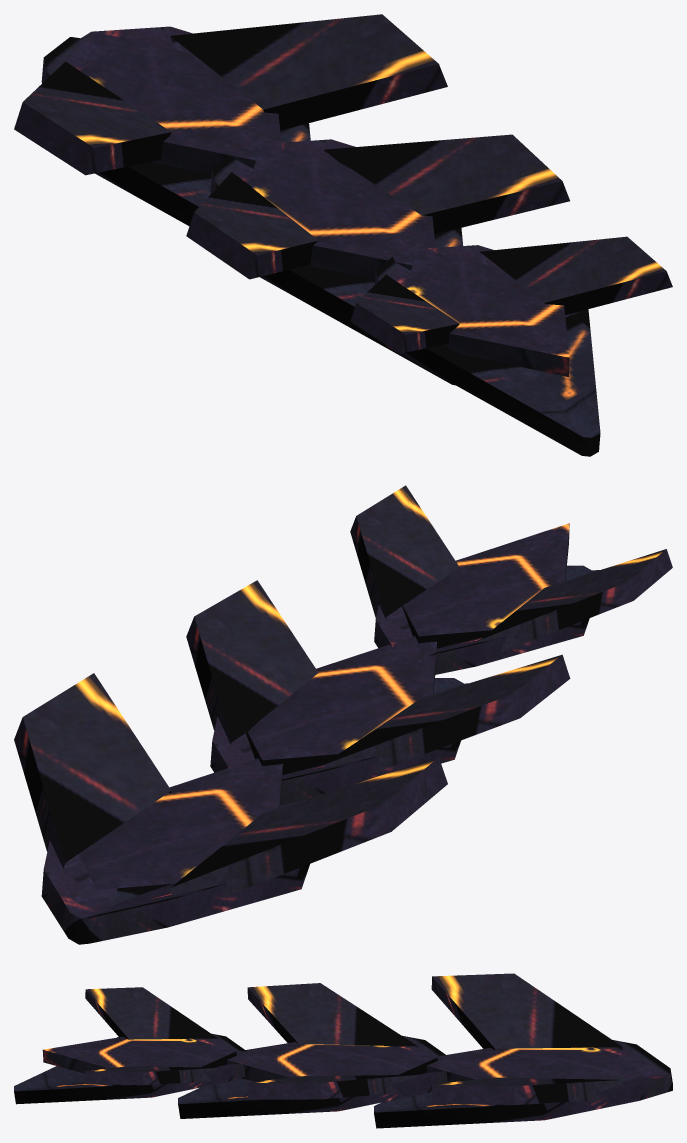
File: ship16h.fbx
3 renders of one model, top to bottom at view 1: azimuth 30°, elevation 25°; view 2: azimuth 150°, elevation 25°; view 3: azimuth 270°, elevation 25°, orthographic. The views are drawn at different scales.
Parts seen in each view (by area): view 1: PipelineFBX; view 2: PipelineFBX; view 3: PipelineFBX.
Boxes of the visible parts, bbox=[...] form: PipelineFBX: bbox=[14, 14, 672, 456]; PipelineFBX: bbox=[14, 485, 672, 944]; PipelineFBX: bbox=[14, 973, 672, 1128].
Size of the model in its own units: 96.5 by 37.21 by 227.
1 material, 1 textured.
